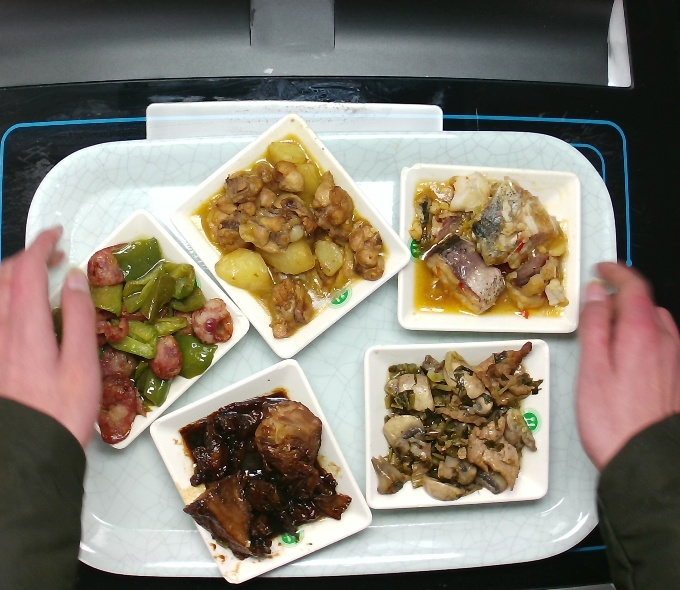wcq-JiangZhiYa: (176, 389, 353, 563)
wcq-MoGuRouPian: (371, 339, 544, 504)
wcq-SuanCaiYu: (409, 173, 571, 321)
wcq-TuDouJiKuai: (194, 132, 387, 342)
